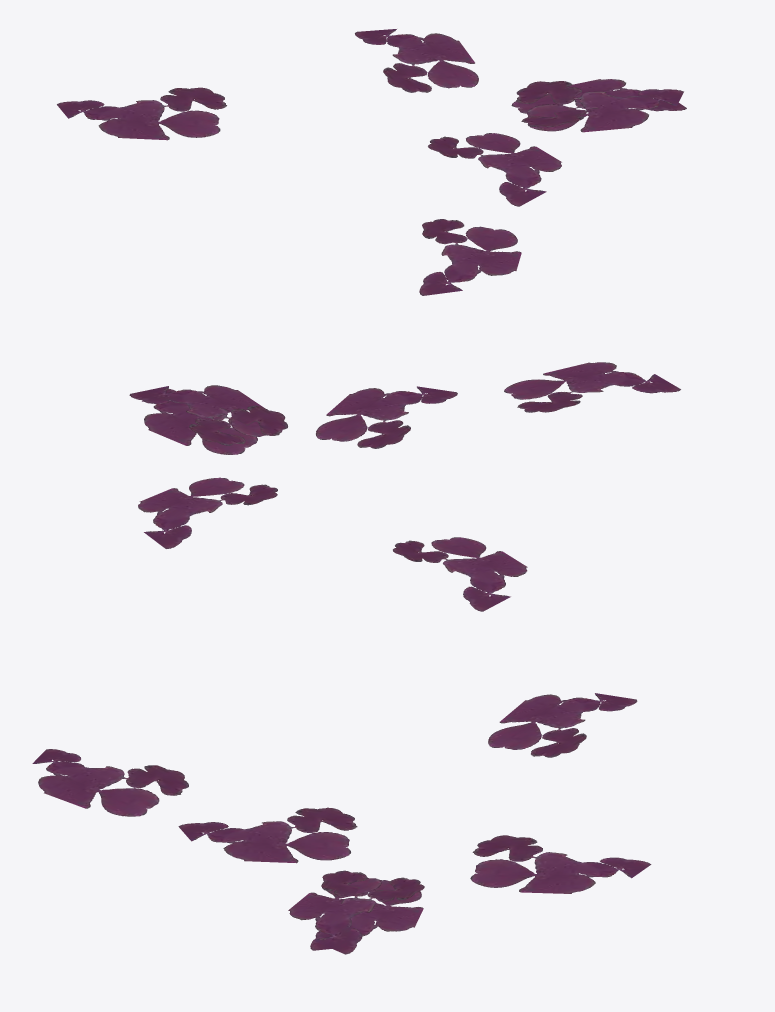
3 renders of one model, top to bottom at view 1: azimuth 30°, elevation 25°; view 2: azimuth 150°, elevation 25°; view 3: azimuth 270°, elevation 25°, orthographic. The views are drawn at different scales.
Parts seen in each view (by area): view 1: SM_GF_Sorrel_E_LOD0; view 2: SM_GF_Sorrel_E_LOD0; view 3: SM_GF_Sorrel_E_LOD0.
Part boxes in pixels (x1=…): SM_GF_Sorrel_E_LOD0: x1=57, y1=29, x2=686, y2=295; SM_GF_Sorrel_E_LOD0: x1=129, y1=362, x2=680, y2=611; SM_GF_Sorrel_E_LOD0: x1=32, y1=693, x2=651, y2=954.
Bounding box in the file's own units: 0.7674 × 0.0438 × 0.8227.
Materials: 1 (1 with a texture image).
